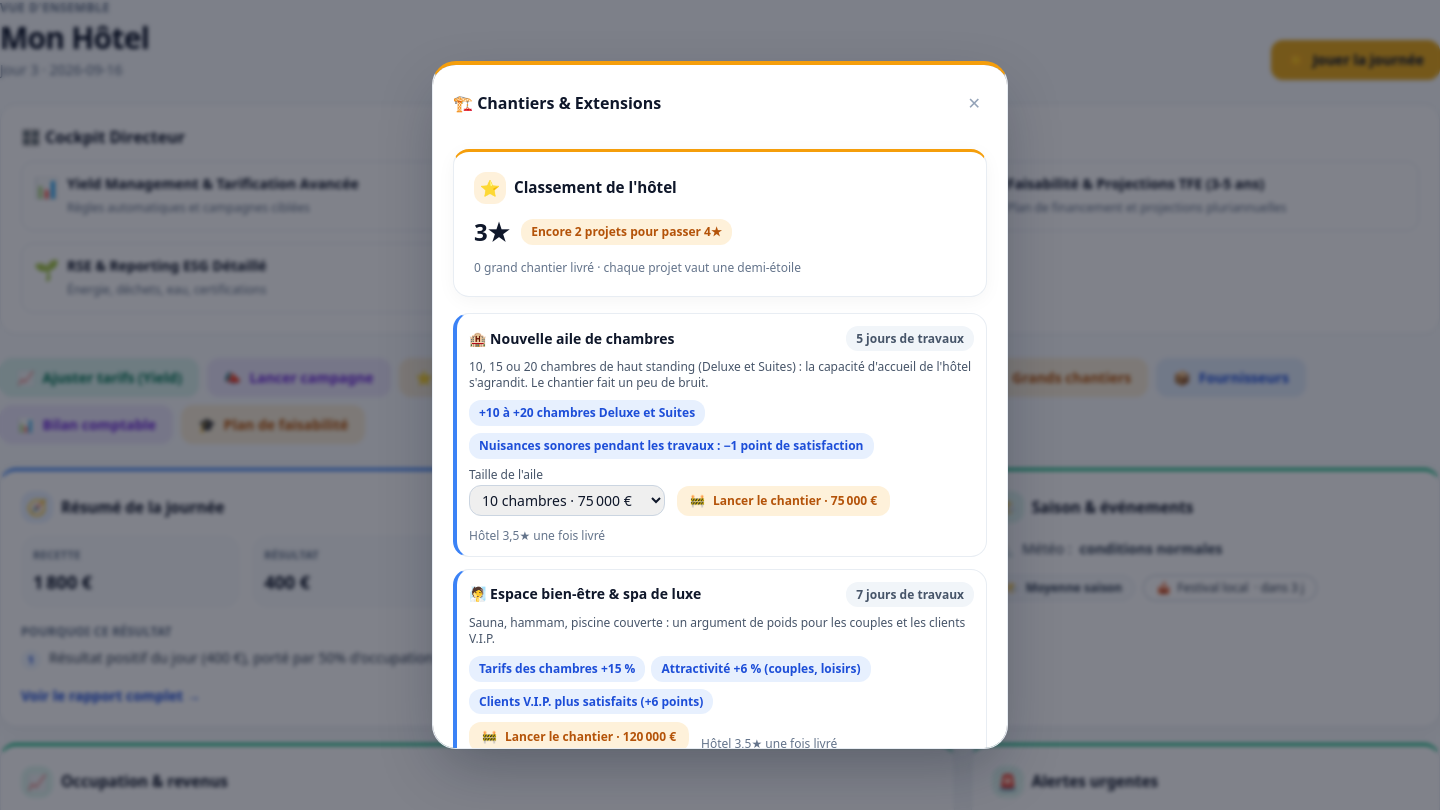
Test: Dashboard / major projects › closes
The image size is (1440, 810).
Click the button named "fermer" at (974, 103), box [962, 85, 987, 121]
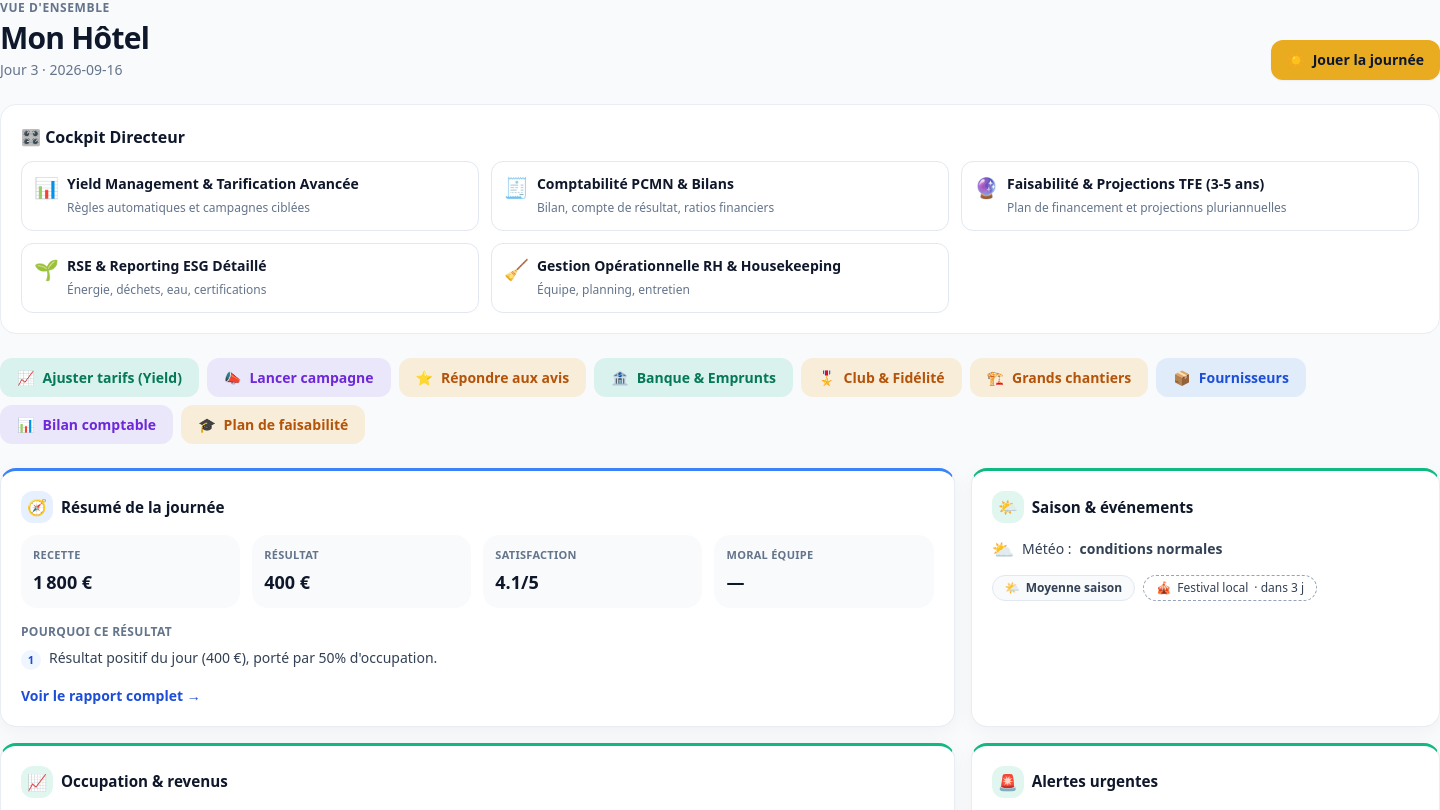
Check: the dialog is gone
